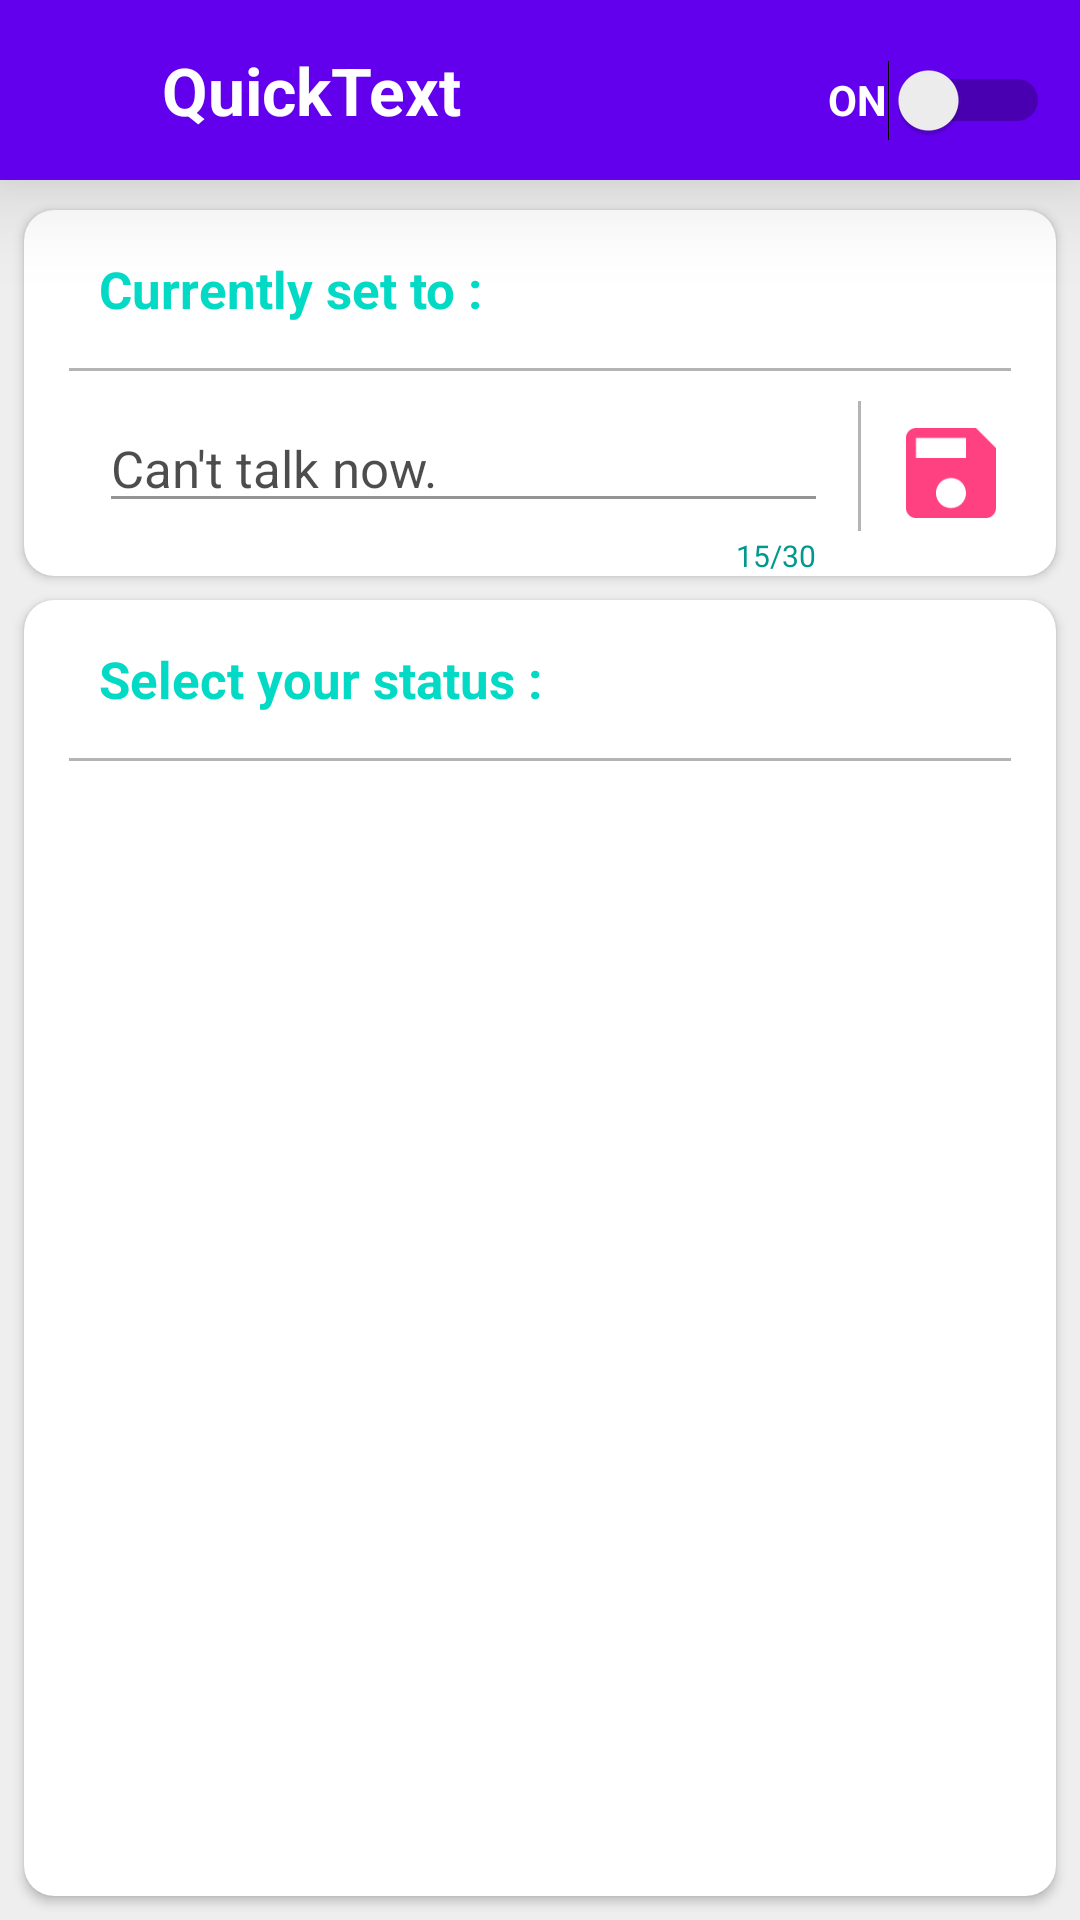

Screen size 1080px x 1920px. Icon name, then its center in pixels as (x=x, y=y):
save: (x=951, y=473)
